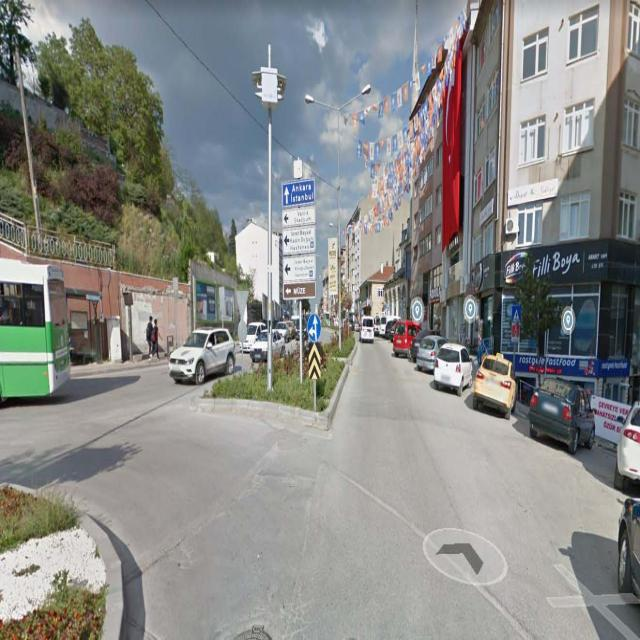ilerisol: (308, 312, 320, 340)
